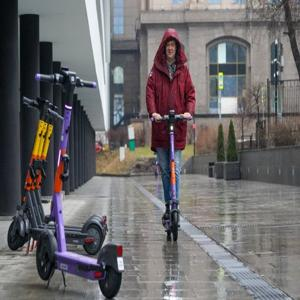human on a scooter: (144, 27, 197, 243)
